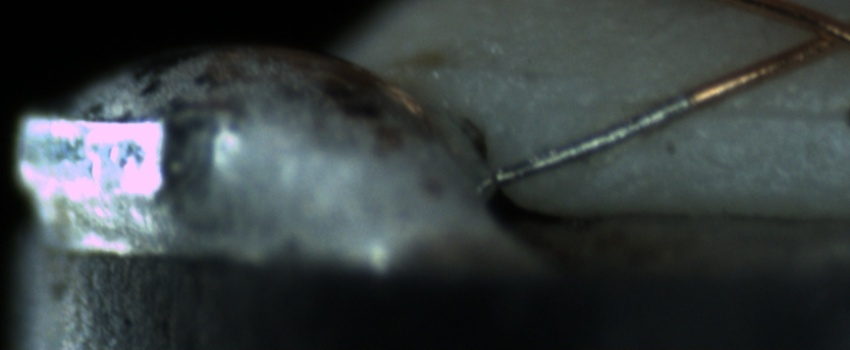CL: (790, 6, 850, 61)
DL: (551, 79, 850, 137)
TS: (491, 93, 694, 189)
